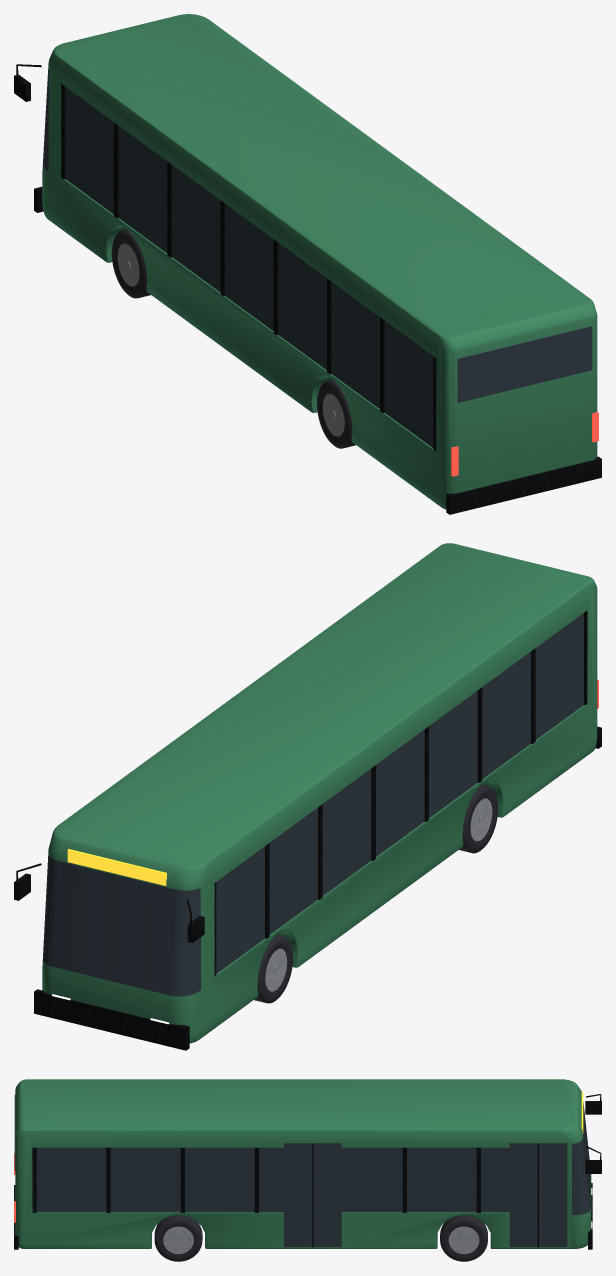
File: bus_city_green.gltf
3 renders of one model, top to bottom at view 1: azimuth 30°, elevation 25°; view 2: azimuth 150°, elevation 25°; view 3: azimuth 270°, elevation 25°, orthographic. The views are drawn at different scales.
Parts seen in each view (by area): view 1: bus_city_green; view 2: bus_city_green; view 3: bus_city_green.
Boxes of the visible parts, x1,y1,x2,y2 form: bus_city_green: (14,14,601,514); bus_city_green: (14,543,601,1050); bus_city_green: (14,1079,601,1261).
Bounding box in the file's own units: 2.99 × 3.05 × 12.26.
10 materials, 4 textured.
